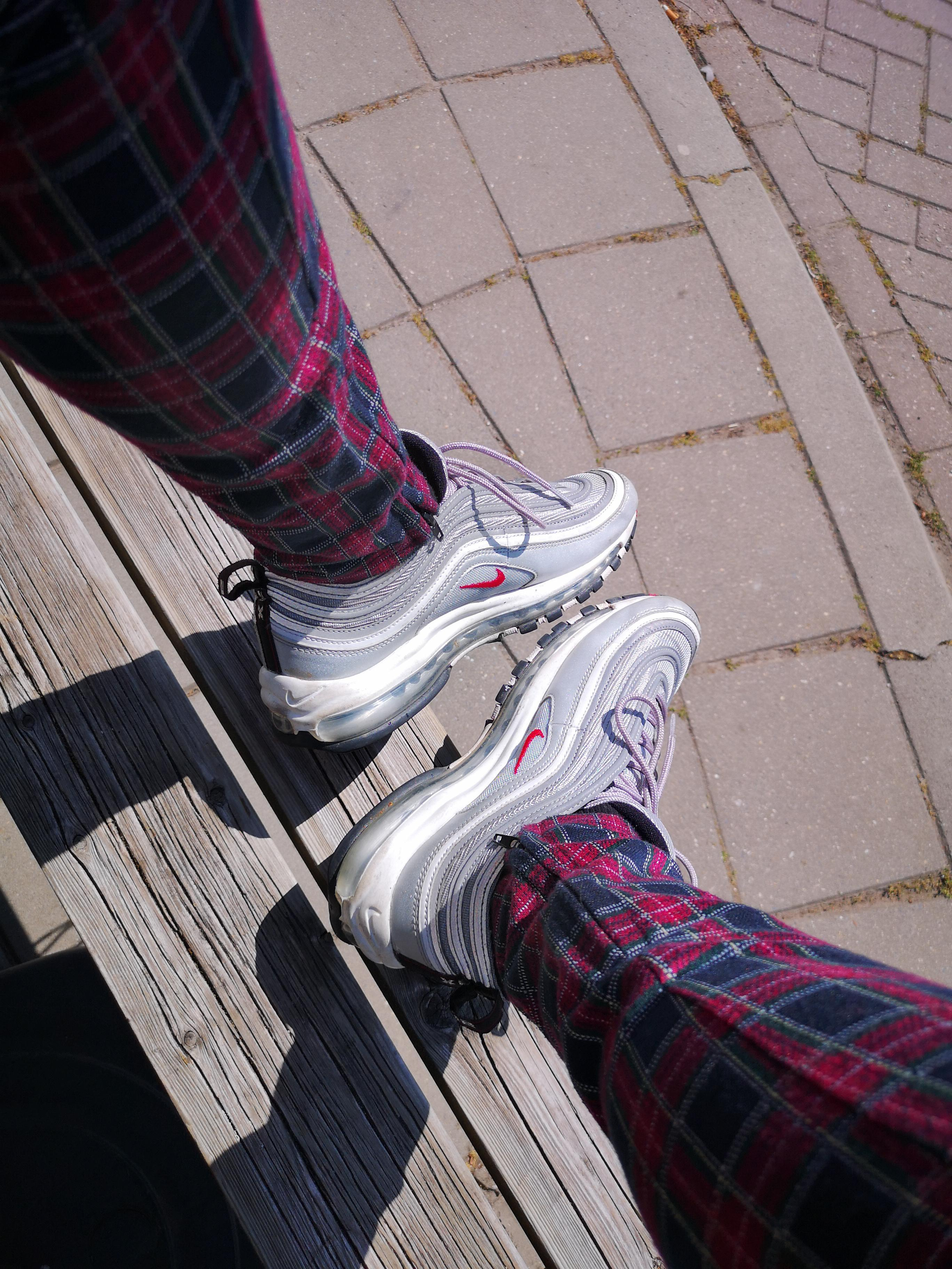sneaker: (343, 602, 709, 1000), (214, 463, 636, 746)
